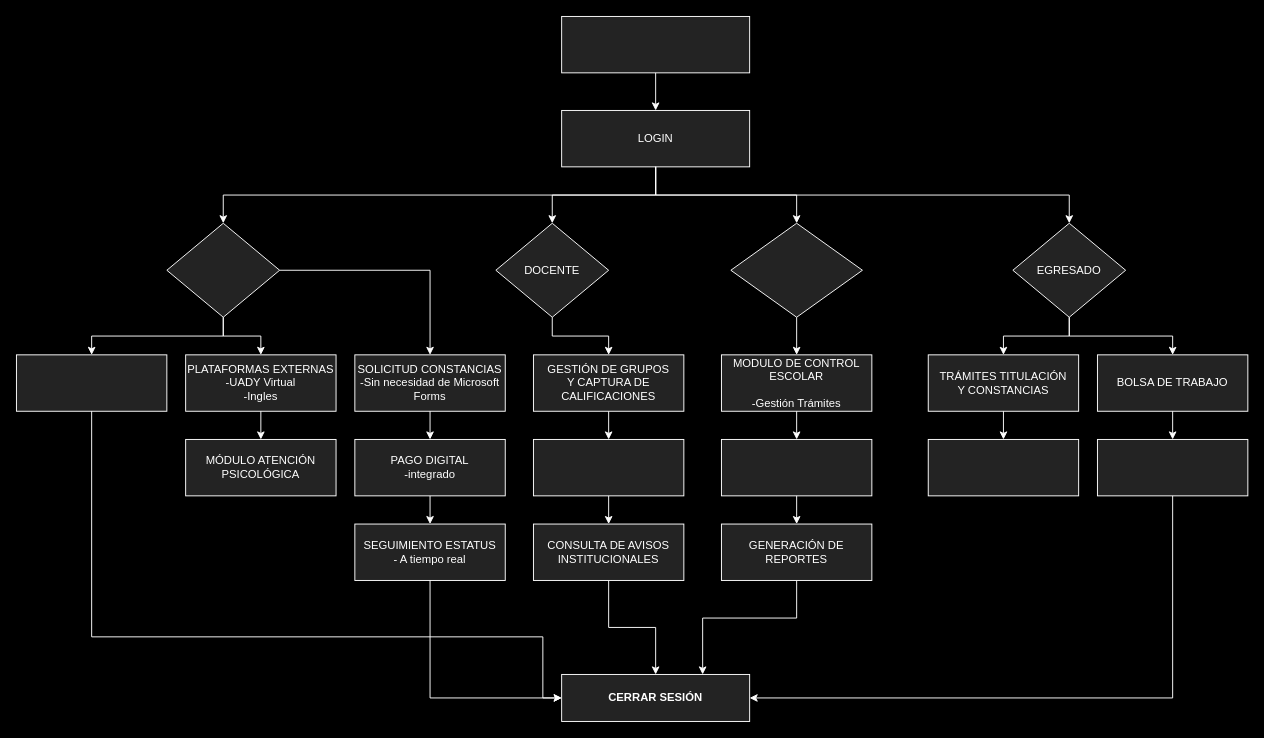
The diagram is 1264 pixels wide and 738 high, and some of its shapes have lost their labels. Here are the shapes that lost their labels. From the top down, the box of each, then its label:
(561, 16, 750, 73): PAGINA PRINCIPAL
(166, 222, 280, 317): ALUMNO
(730, 222, 862, 317): ADMINISTRATIVO
(16, 354, 167, 411): SICEI INTEGRADO -Kardex -Calificaciones -Historial
(533, 439, 684, 496): COMUNICACIÓN CON ALUMNOS
(721, 439, 872, 496): ADMINISTRACIÓN DE PAGOS
(927, 439, 1079, 496): SOLICITUD CREDENCIAL JAGUAR UADY
(1097, 439, 1248, 496): CURSOS PREPARACIÓN EGEL
